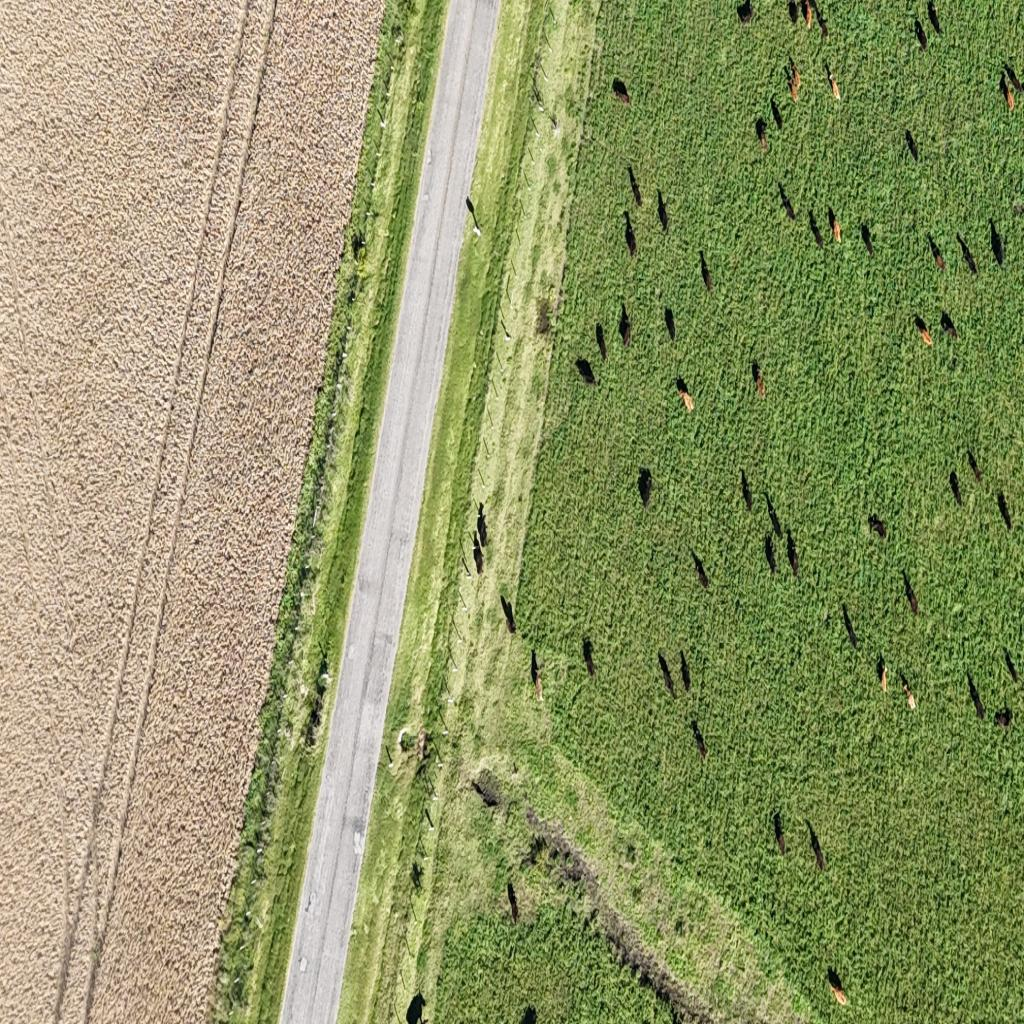cow: (471, 773, 500, 809), (1002, 61, 1022, 106), (957, 232, 977, 276), (968, 671, 986, 719), (807, 822, 824, 870), (766, 493, 782, 542), (828, 968, 848, 1007), (843, 602, 859, 650), (902, 569, 918, 617), (659, 651, 675, 699), (405, 991, 427, 1024), (928, 233, 946, 273), (990, 218, 1004, 269), (1004, 647, 1022, 685), (692, 550, 709, 590), (779, 182, 796, 222), (618, 299, 632, 347), (692, 721, 708, 763), (786, 58, 802, 100), (809, 208, 825, 249), (813, 2, 829, 43), (466, 196, 482, 237), (676, 374, 694, 410), (900, 672, 917, 710), (623, 210, 637, 256), (500, 594, 516, 634), (637, 468, 653, 508), (914, 314, 933, 347), (531, 649, 543, 701), (940, 312, 959, 344), (628, 164, 642, 206), (582, 636, 596, 678), (751, 358, 766, 397), (507, 877, 519, 925), (765, 531, 777, 578), (576, 358, 596, 386), (998, 491, 1012, 531), (656, 188, 668, 234), (774, 812, 786, 858), (788, 535, 800, 581), (868, 513, 887, 541), (949, 469, 963, 507), (828, 206, 842, 244), (476, 504, 488, 548), (679, 648, 691, 692), (994, 706, 1013, 733), (613, 78, 631, 106), (472, 532, 484, 574), (740, 469, 752, 511), (861, 222, 875, 257), (927, 0, 941, 35), (968, 449, 982, 483), (906, 130, 919, 164), (877, 653, 888, 693), (770, 97, 782, 133), (737, 0, 754, 25), (665, 305, 676, 343), (756, 116, 768, 150), (351, 231, 365, 260), (596, 322, 606, 362), (518, 1004, 538, 1024), (915, 19, 927, 52), (702, 255, 712, 294), (788, 0, 799, 26), (669, 1005, 684, 1023), (804, 0, 813, 30), (830, 78, 840, 102), (824, 610, 832, 628), (1017, 201, 1024, 216)
